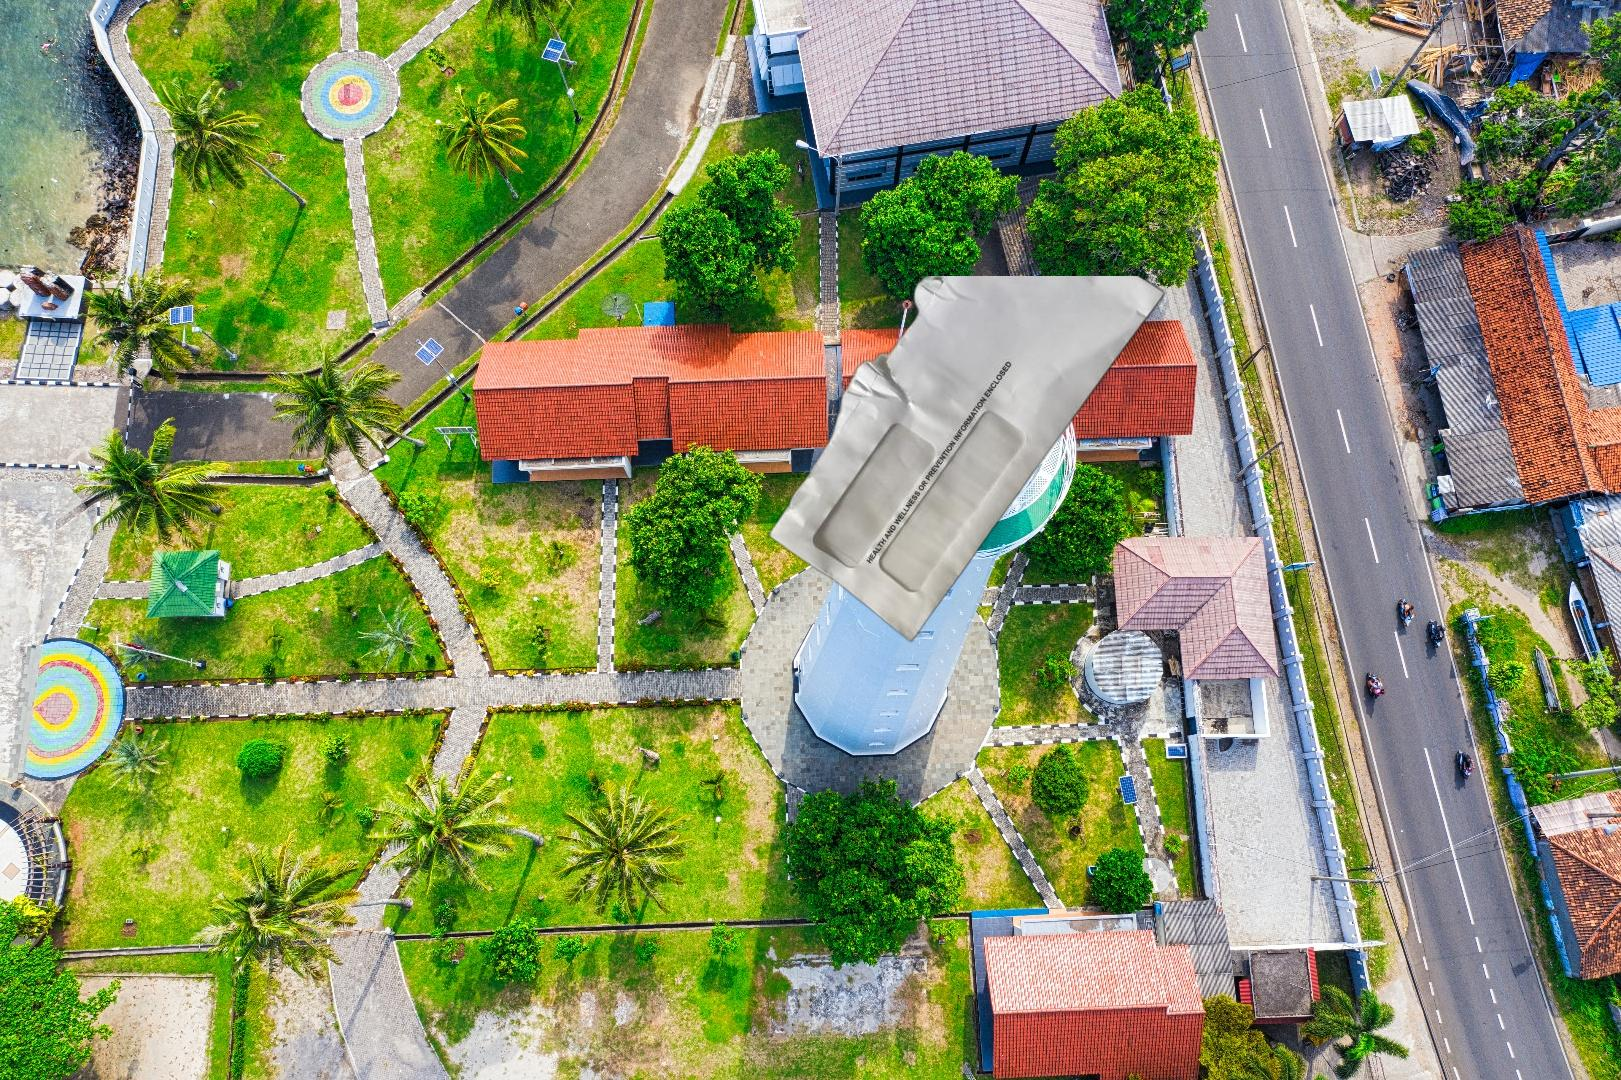paper: (764, 276, 1174, 645)
